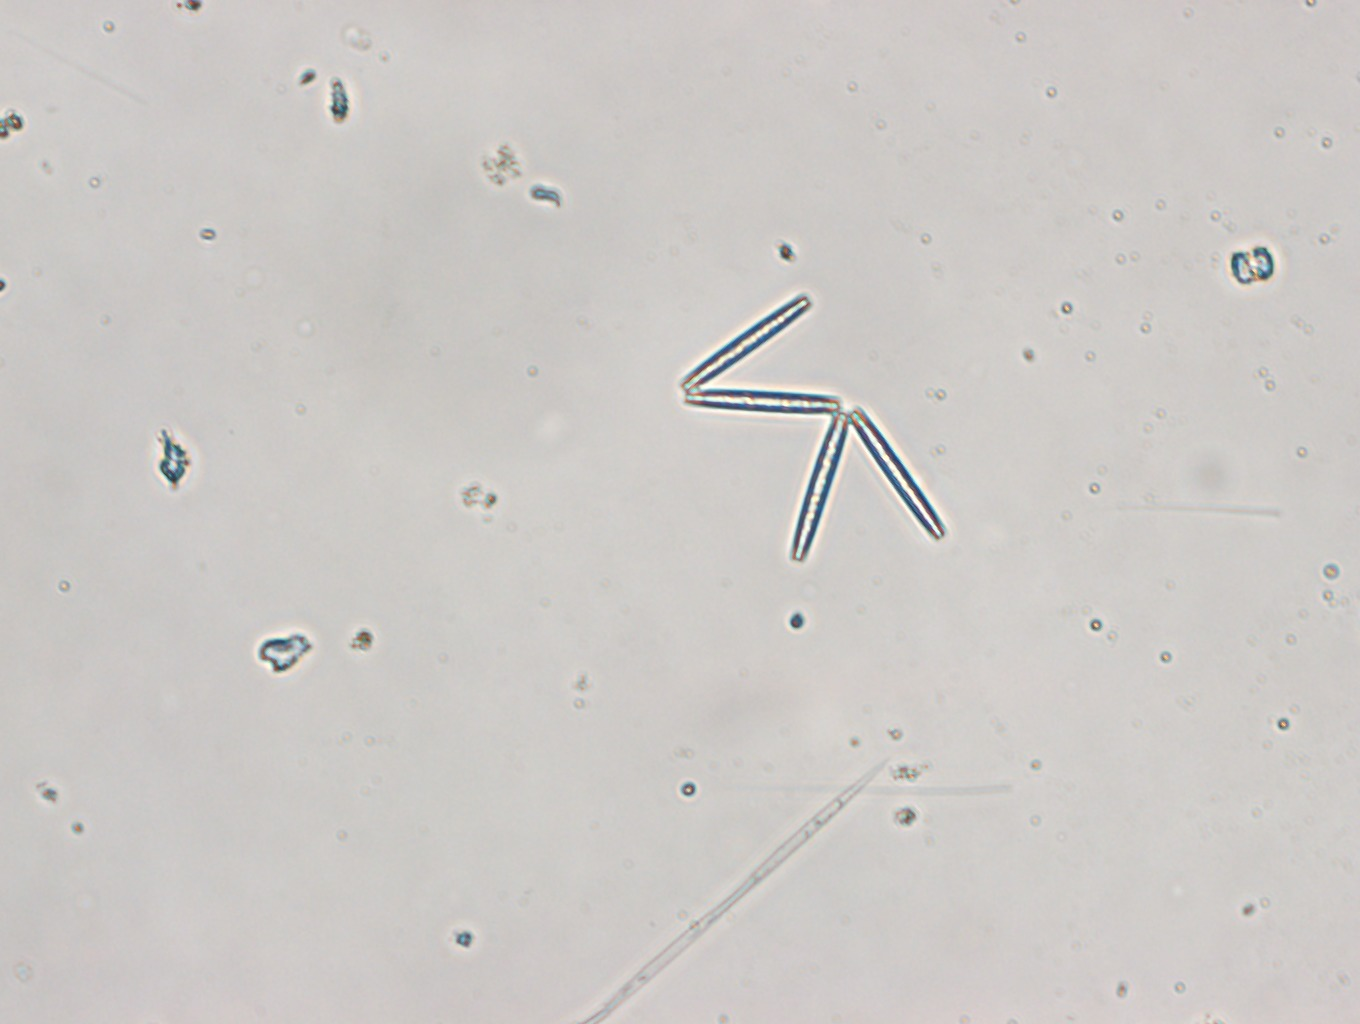thalassionema nitzschioides: (675, 293, 950, 564)
